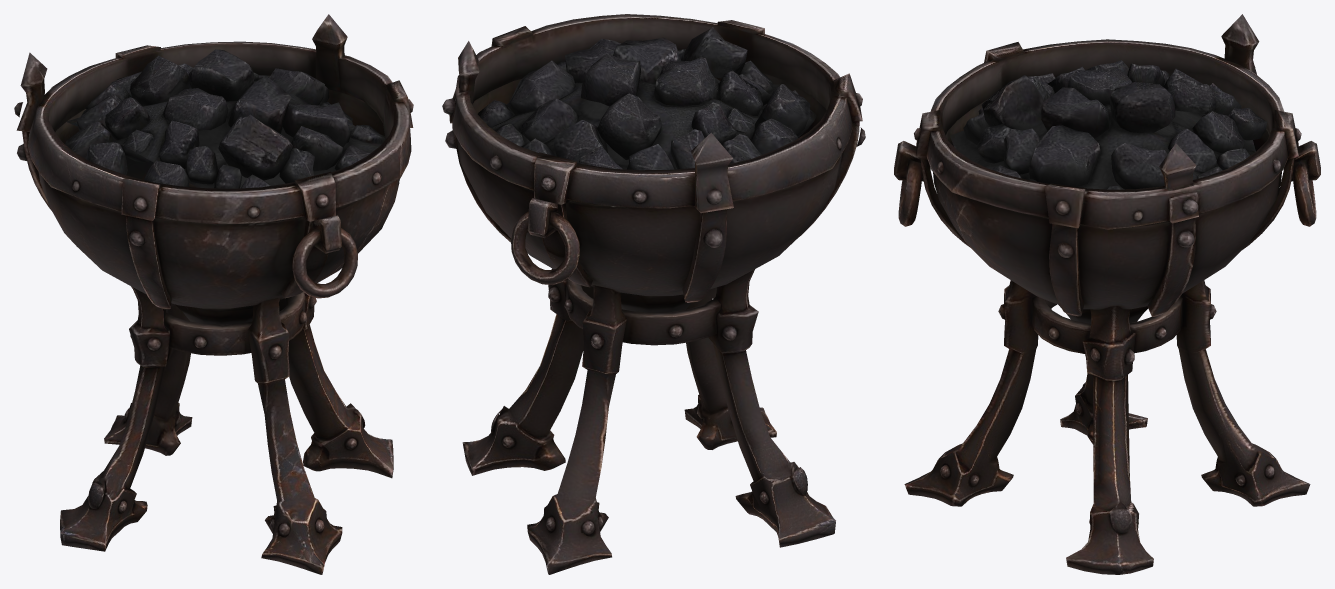
File: prop_brazier.glb
The picture shows the model from 3 angles, left to right: view 1: azimuth 30°, elevation 25°; view 2: azimuth 150°, elevation 25°; view 3: azimuth 270°, elevation 25°; orthographic projection. The views are drawn at different scales.
Parts seen in each view (by area): view 1: tripo_node_24950c4d-2553-4dd6-88d9-177a0cb7f157; view 2: tripo_node_24950c4d-2553-4dd6-88d9-177a0cb7f157; view 3: tripo_node_24950c4d-2553-4dd6-88d9-177a0cb7f157.
Boxes of the visible parts, x1,y1,x2,y2 form: tripo_node_24950c4d-2553-4dd6-88d9-177a0cb7f157: [14, 14, 413, 574]; tripo_node_24950c4d-2553-4dd6-88d9-177a0cb7f157: [442, 14, 865, 574]; tripo_node_24950c4d-2553-4dd6-88d9-177a0cb7f157: [894, 14, 1320, 574].
Bounding box in the file's own units: 0.8481 × 0.9995 × 0.9175.
Materials: 1 (1 with a texture image).
